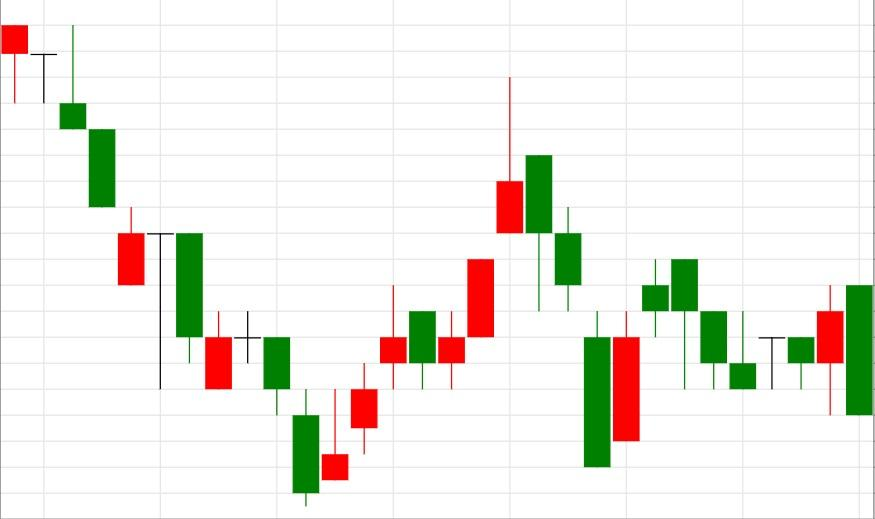inverse_hammer_rise: (0, 23, 349, 506)
three_black_crows_fall: (584, 259, 757, 468)
